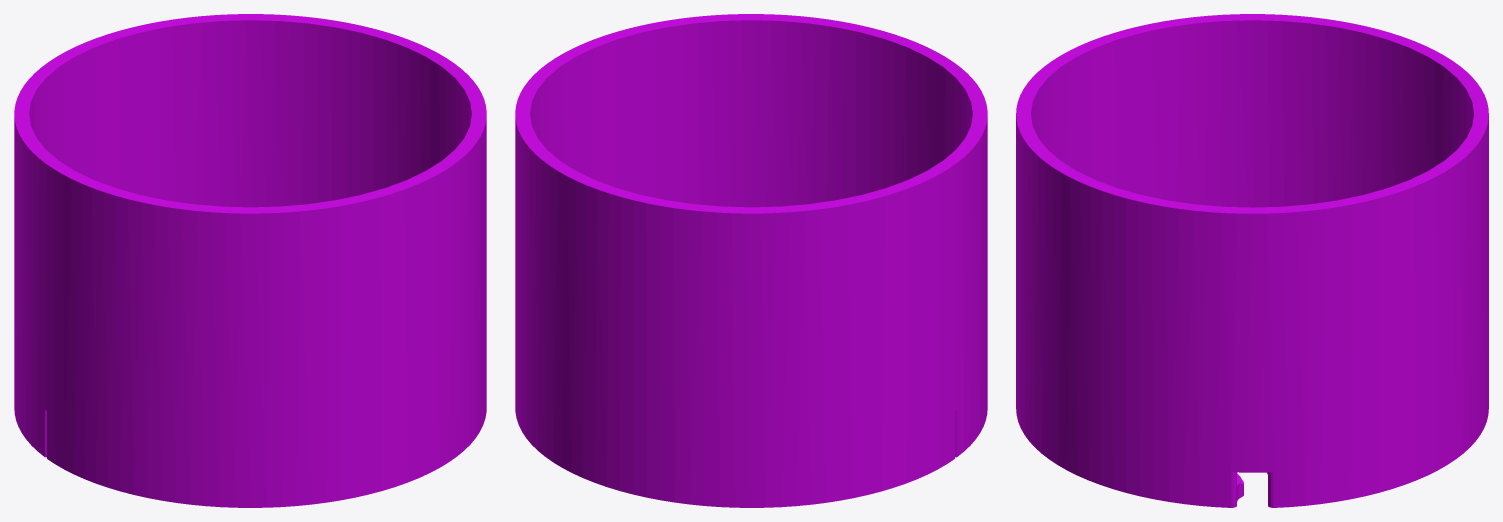
3 views of the same model, side by side, from view 1: azimuth 30°, elevation 25°; view 2: azimuth 150°, elevation 25°; view 3: azimuth 270°, elevation 25° (orthographic).
Parts seen in each view (by area): view 1: node0; view 2: node0; view 3: node0.
Part boxes in pixels (x1=…): node0: x1=14, y1=14, x2=486, y2=507; node0: x1=515, y1=14, x2=987, y2=507; node0: x1=1016, y1=14, x2=1488, y2=507.
Size of the model in its own units: 0.0853 by 0.0853 by 0.0587.
